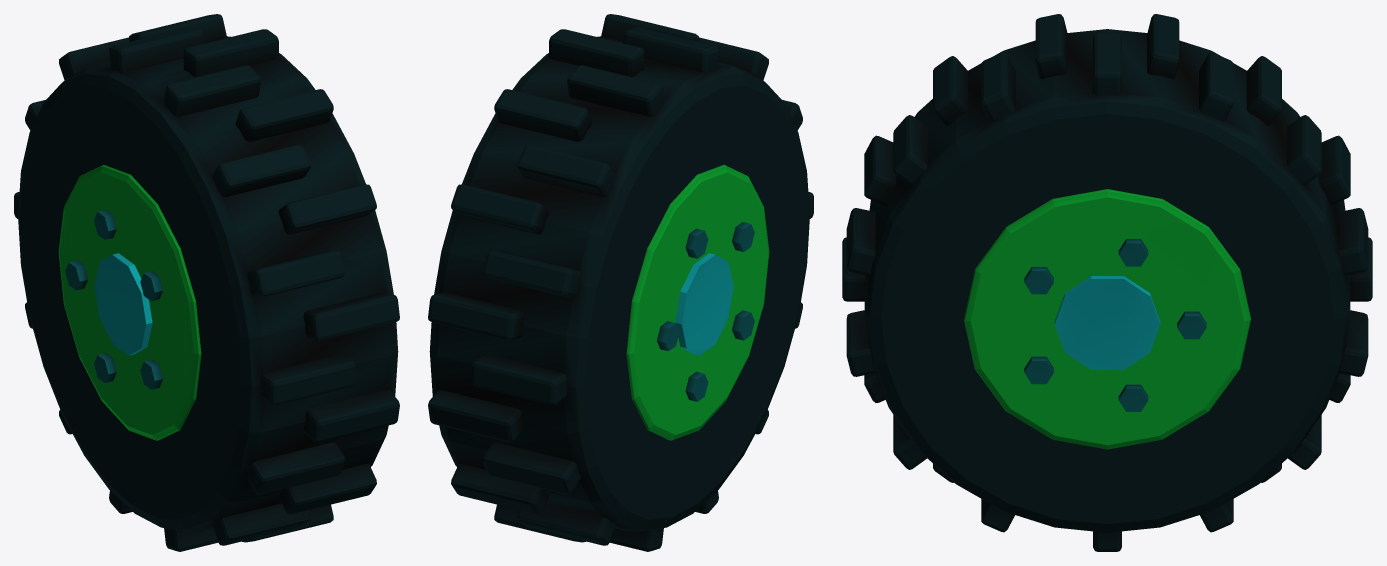
The model's file is tyre_standard.glb.
3 renders of one model, left to right at view 1: azimuth 30°, elevation 25°; view 2: azimuth 150°, elevation 25°; view 3: azimuth 270°, elevation 25°, orthographic.
Parts seen in each view (by area): view 1: tyre_standard; view 2: tyre_standard; view 3: tyre_standard.
Boxes of the visible parts, box(x1,y1,x2,y2) form: tyre_standard: box(14, 14, 399, 551); tyre_standard: box(428, 14, 813, 551); tyre_standard: box(842, 14, 1372, 551).
Bounding box in the file's own units: 0.268 × 0.6432 × 0.6432.
1 material, 1 textured.
